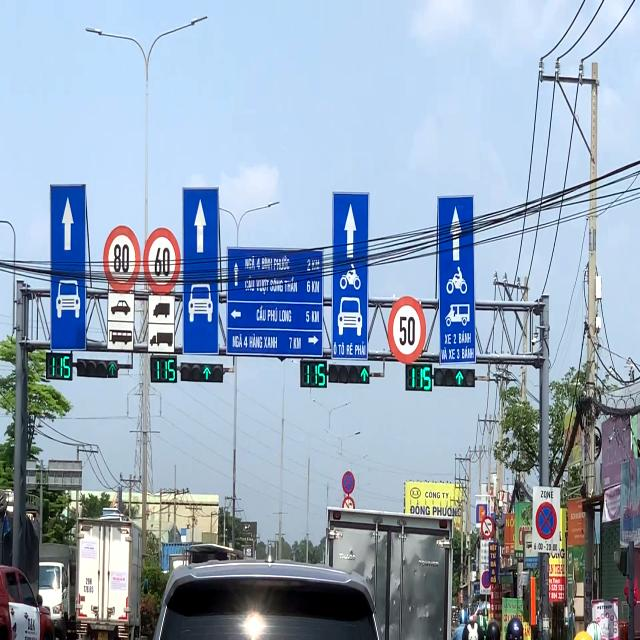P.127: (388, 296, 426, 364), (103, 226, 141, 294), (143, 228, 181, 295)
P.130: (536, 502, 557, 540), (342, 471, 355, 494), (482, 571, 492, 589)
